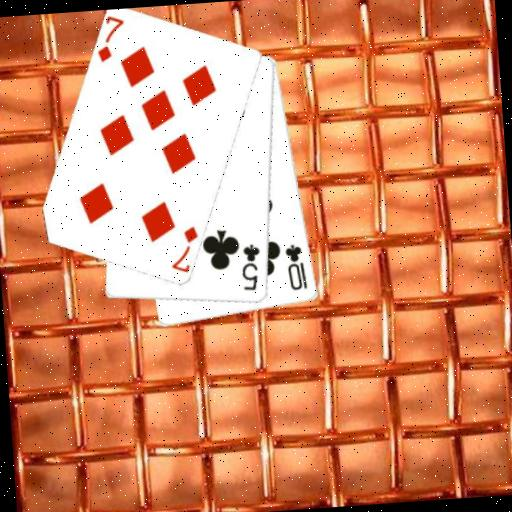10C: (283, 240, 310, 293)
5C: (237, 241, 264, 294)
7D: (166, 223, 203, 275), (93, 13, 129, 65)
